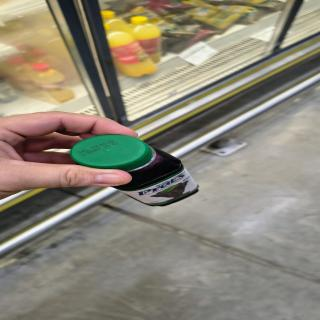Juice: (56, 133, 212, 216)
